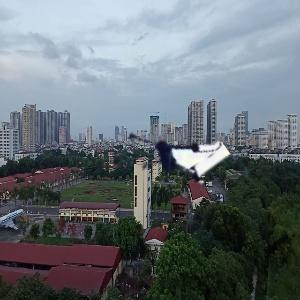drone: (116, 101, 217, 202)
